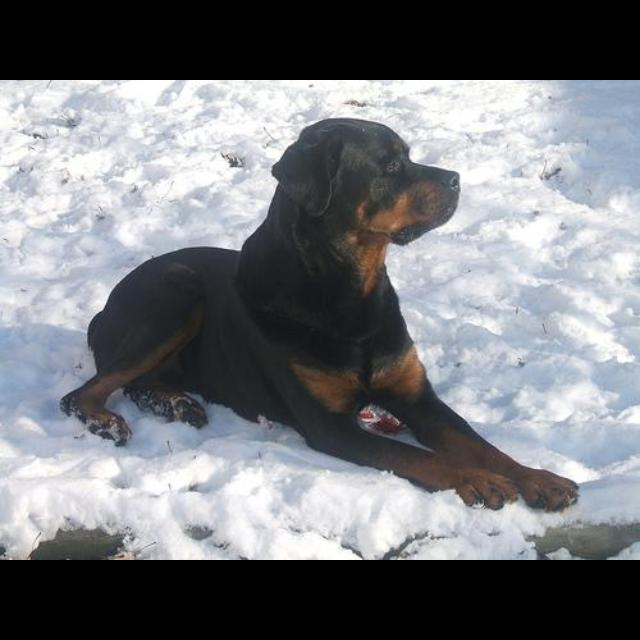rottweiler: (60, 117, 580, 513)
